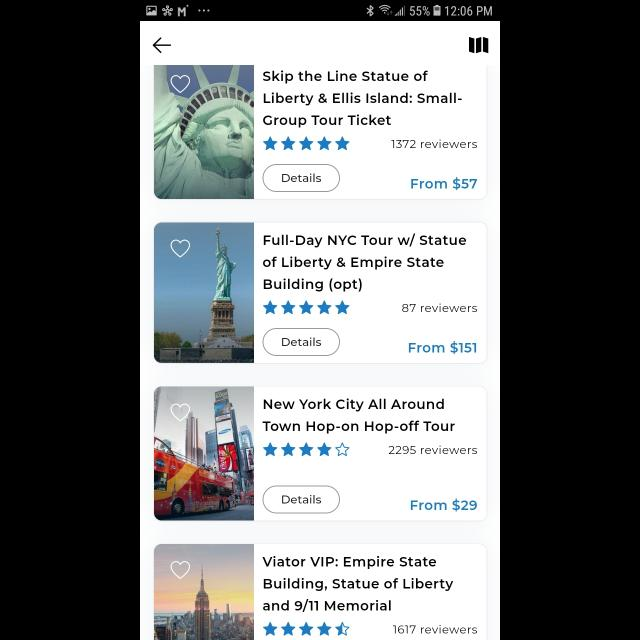icon: (262, 136, 350, 152), (262, 622, 350, 636), (262, 301, 350, 315), (263, 443, 349, 457), (170, 403, 190, 421), (469, 37, 489, 54), (172, 561, 190, 579), (172, 239, 190, 257), (172, 75, 190, 93), (152, 38, 172, 54)
image: (154, 224, 254, 364), (154, 387, 254, 521), (154, 65, 254, 199), (154, 544, 254, 640)
text: (262, 234, 466, 292), (263, 71, 462, 129), (262, 556, 453, 612), (262, 398, 456, 434), (410, 498, 478, 512), (408, 341, 476, 355), (392, 624, 478, 634), (411, 178, 477, 190), (389, 446, 477, 454), (391, 140, 477, 148), (402, 304, 476, 312)
textbutton: (263, 486, 341, 514), (263, 328, 341, 356), (263, 165, 341, 193)
uppertaskbar: (140, 1, 500, 22)
